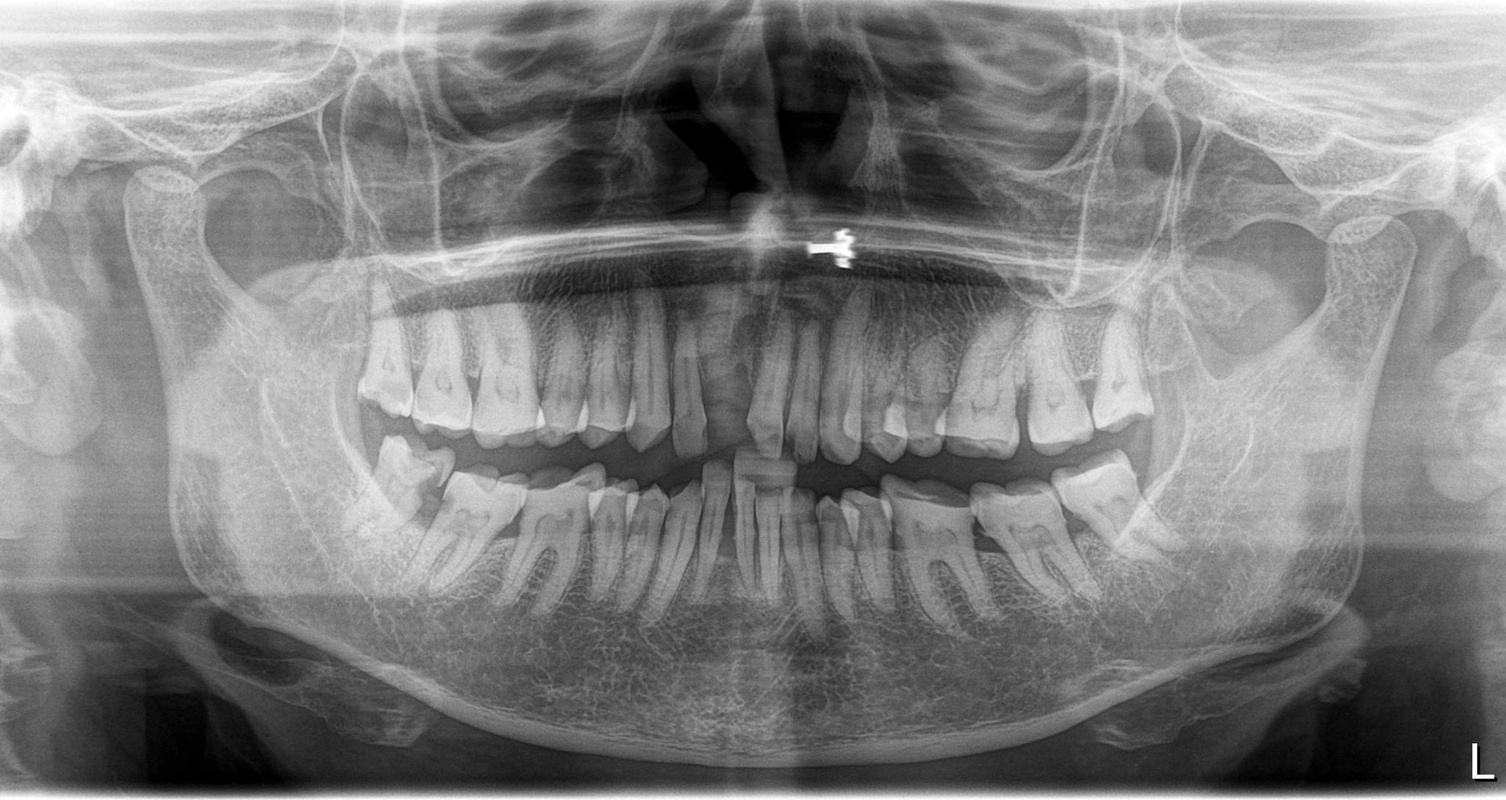Impacted Third Molar: (1061, 442, 1174, 569), (351, 434, 449, 534)
Missing Tooth: (1151, 290, 1217, 421), (708, 333, 751, 443)
